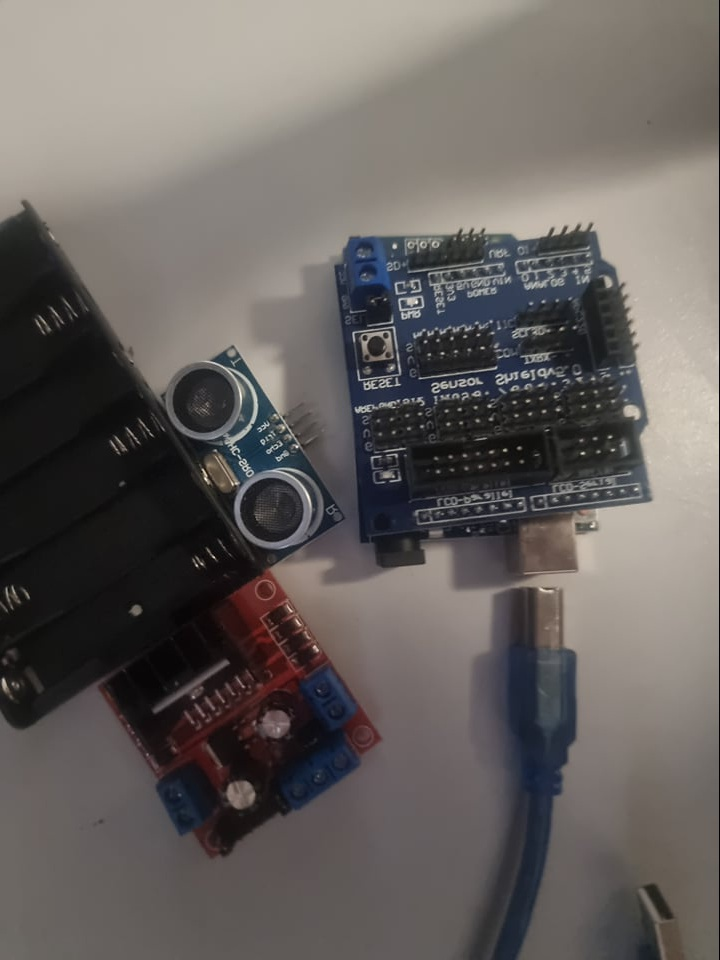BATTERY BOX: (1, 206, 267, 729)
MOTOR: (99, 573, 390, 857)
SENSOR: (167, 344, 349, 562)
UNO R3: (348, 224, 662, 511)
